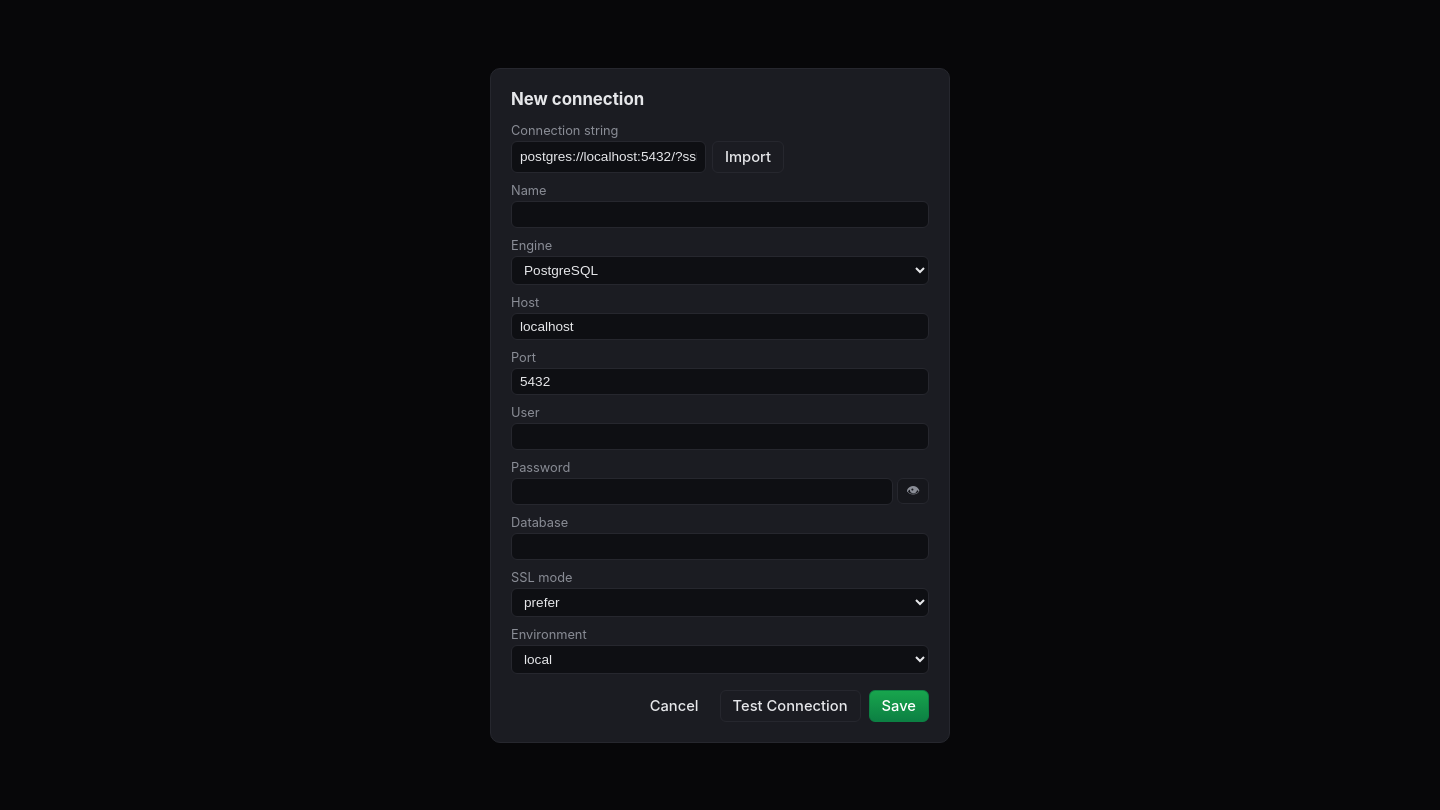
ConnectionModal › switches to sqlite fields
Select "SQLite" in the dropdown labelled "Engine" at (720, 270), box [511, 256, 929, 284]
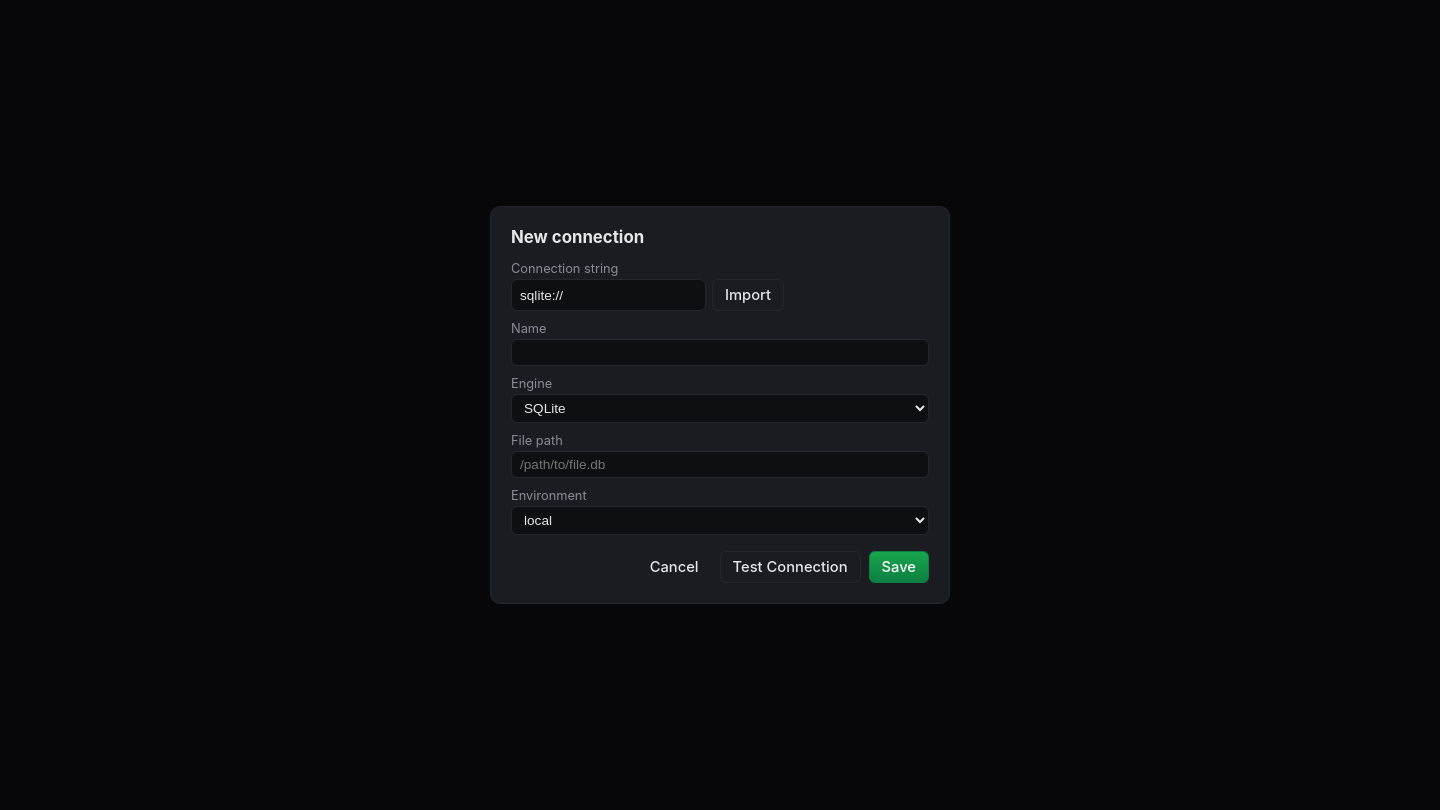
Expected: the field named "database" is shown, [511, 451, 929, 478]
Expected: the label labelled "Host" is gone
